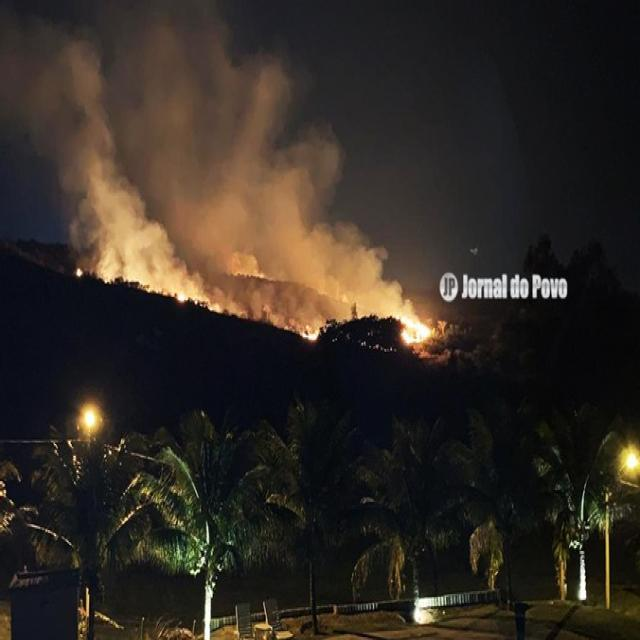Fire: (397, 312, 432, 347), (301, 324, 320, 342), (174, 285, 189, 303), (73, 266, 84, 278)
Smoke: (12, 14, 438, 350), (42, 38, 226, 306), (22, 58, 92, 266), (88, 207, 220, 315), (226, 51, 290, 253), (324, 216, 398, 312), (255, 186, 322, 290), (210, 285, 243, 316), (230, 253, 260, 276), (245, 286, 262, 316)
